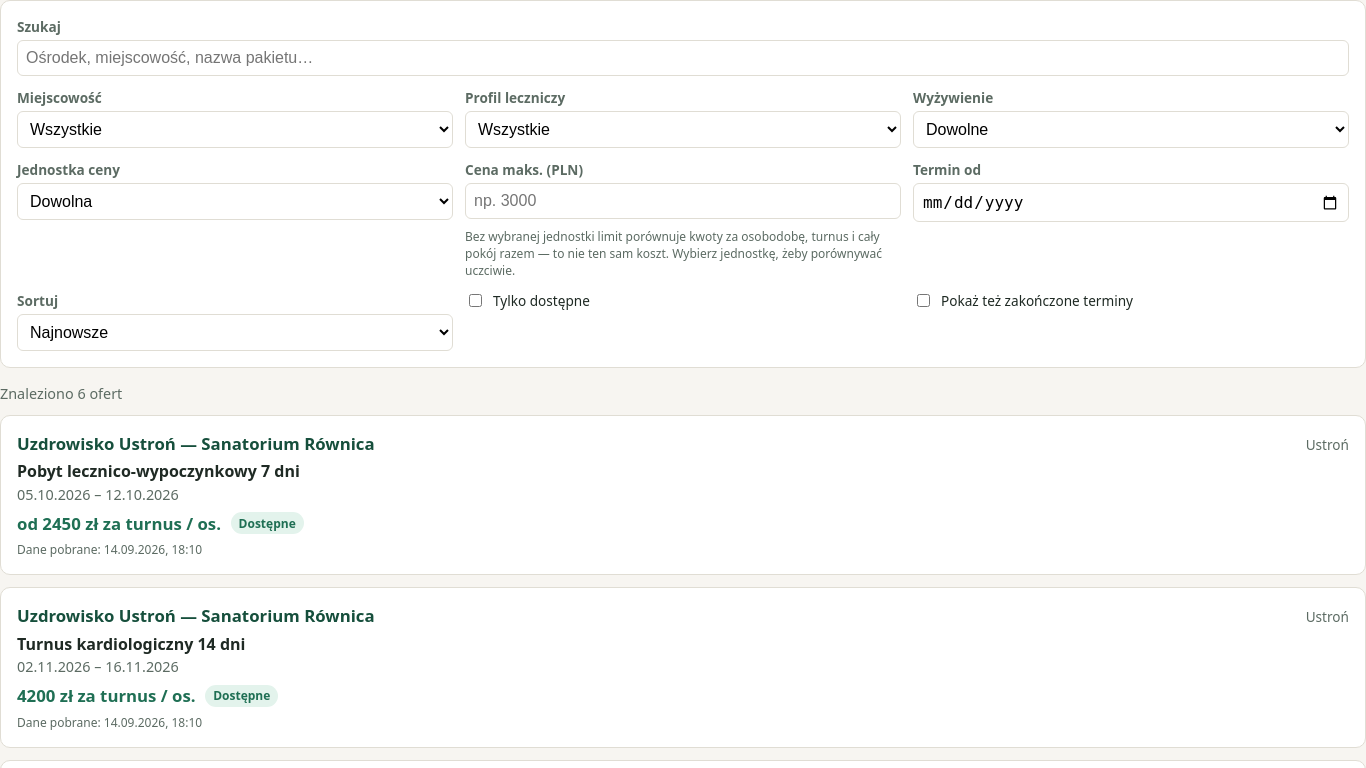
Test: SearchPage › pokazuje komunikat o braku wyników dla nieistniejącej frazy
Check: the text "Znaleziono 6 ofert" is shown, box [0, 384, 122, 403]
Type "nie-ma-takiego-osrodka-xyz" into the search field labelled "Szukaj". click: (683, 58)
box: [17, 40, 1349, 76]
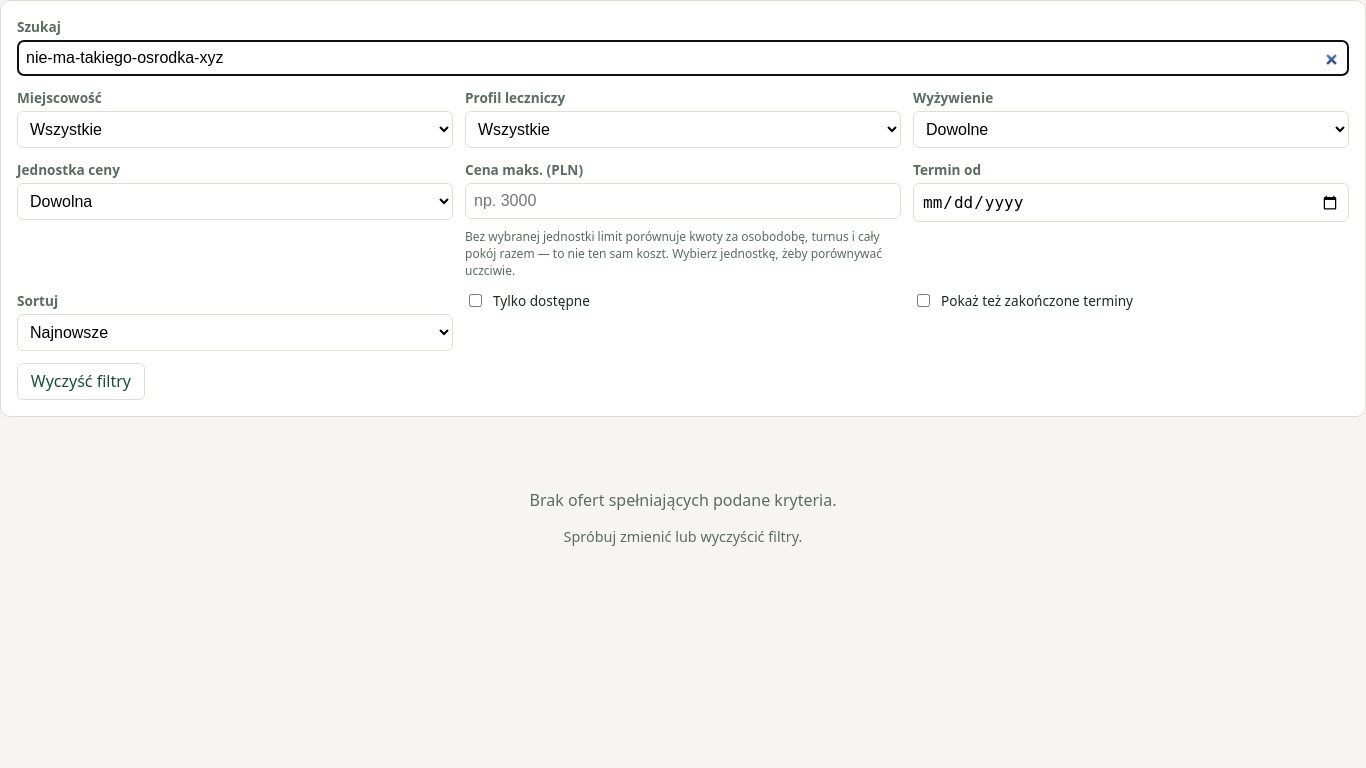
Check: the text "Brak ofert spełniających podane kryteria." is shown, box [530, 489, 836, 511]
